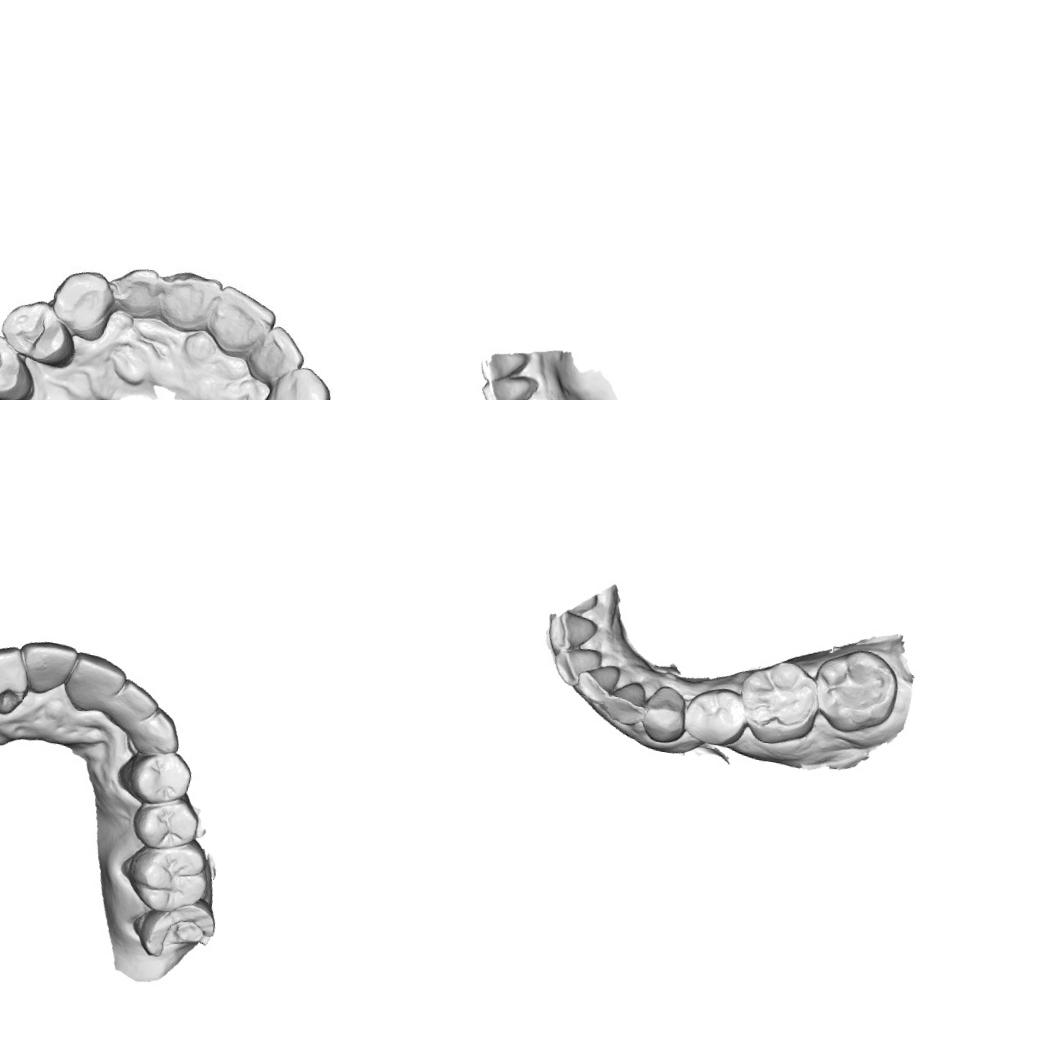canine: (44, 264, 118, 344), (256, 358, 337, 400), (126, 706, 186, 756), (602, 677, 648, 727)
incisor: (204, 282, 282, 352), (242, 319, 308, 390), (63, 650, 129, 718), (158, 265, 216, 337), (106, 261, 169, 323), (18, 638, 76, 700), (540, 606, 600, 659), (110, 676, 165, 731), (550, 642, 606, 690), (572, 657, 622, 708), (0, 638, 30, 716), (477, 346, 528, 387), (477, 369, 533, 400)
molar: (806, 642, 904, 743), (733, 654, 825, 751), (120, 835, 218, 916), (133, 894, 220, 965)
premolar: (0, 294, 76, 369), (115, 740, 197, 808), (679, 682, 752, 750), (128, 790, 204, 854), (637, 682, 691, 746), (0, 329, 37, 400)
